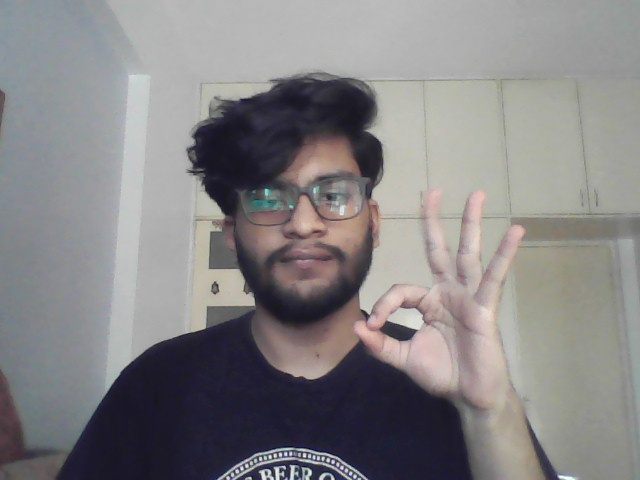Ok: (352, 185, 532, 408)
